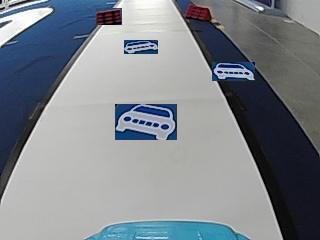bomb: (185, 5, 212, 21)
